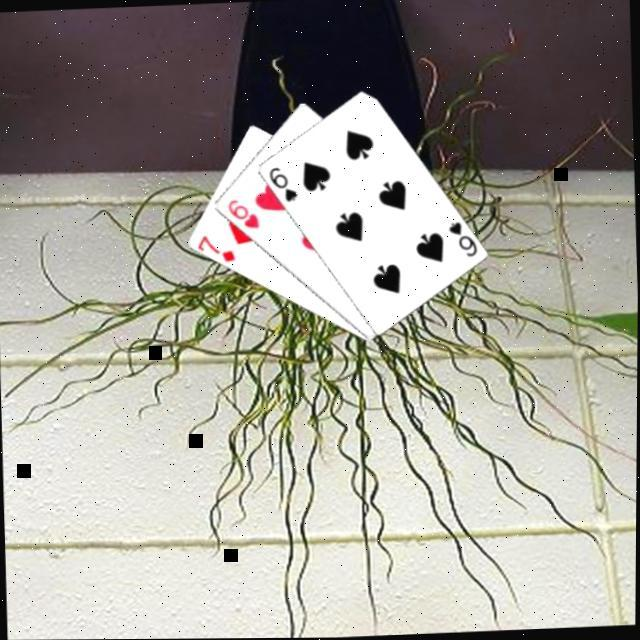6H: (225, 196, 263, 232)
6S: (445, 219, 480, 262), (266, 164, 301, 206)
7D: (195, 231, 238, 266)
